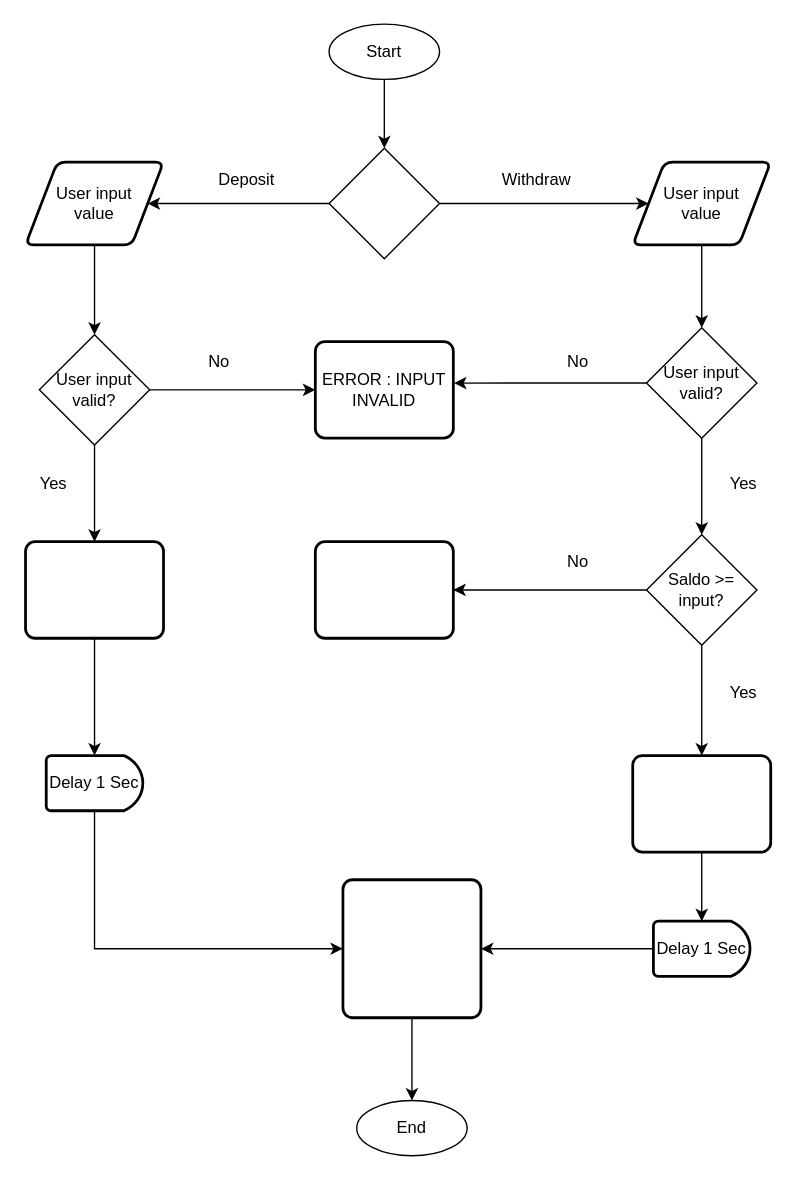
The diagram is 795 pixels wide and 1180 high, and some of its shapes have lost their labels. The shapes that lost their labels are listed below. From the top down, each one's centre as x and y in pixels, then its label:
pixel 384 203: Menu?
pixel 93 589: new saldo = user input value + saldo
pixel 383 589: ERROR : INSUFFICIENT AMOUNT
pixel 701 803: new saldo = saldo - user input value
pixel 411 948: Update the saldo UI
